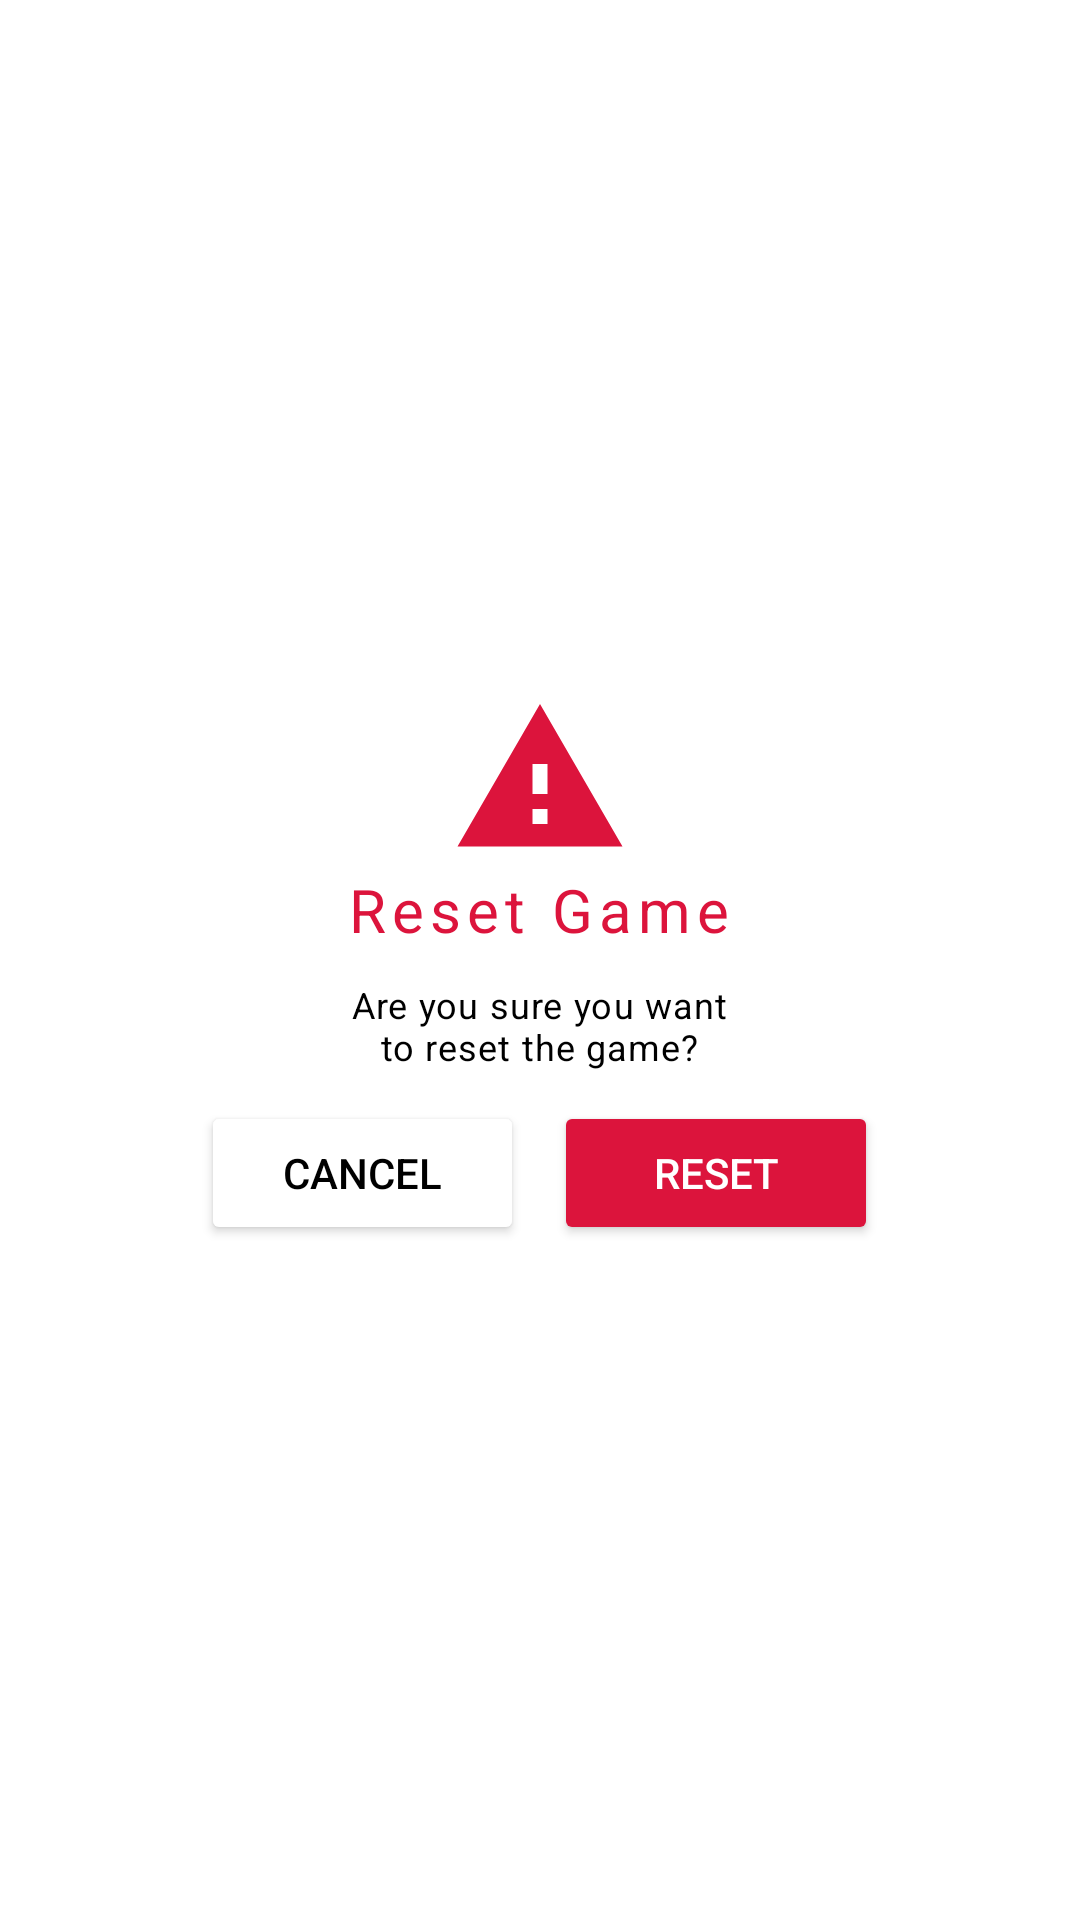

Icons on this 1080px×1920px Android screen, each with its box as {"x1": x1, "y1": y1, "x2": x2, "y2": y2}:
warning: {"x1": 457, "y1": 704, "x2": 623, "y2": 847}
